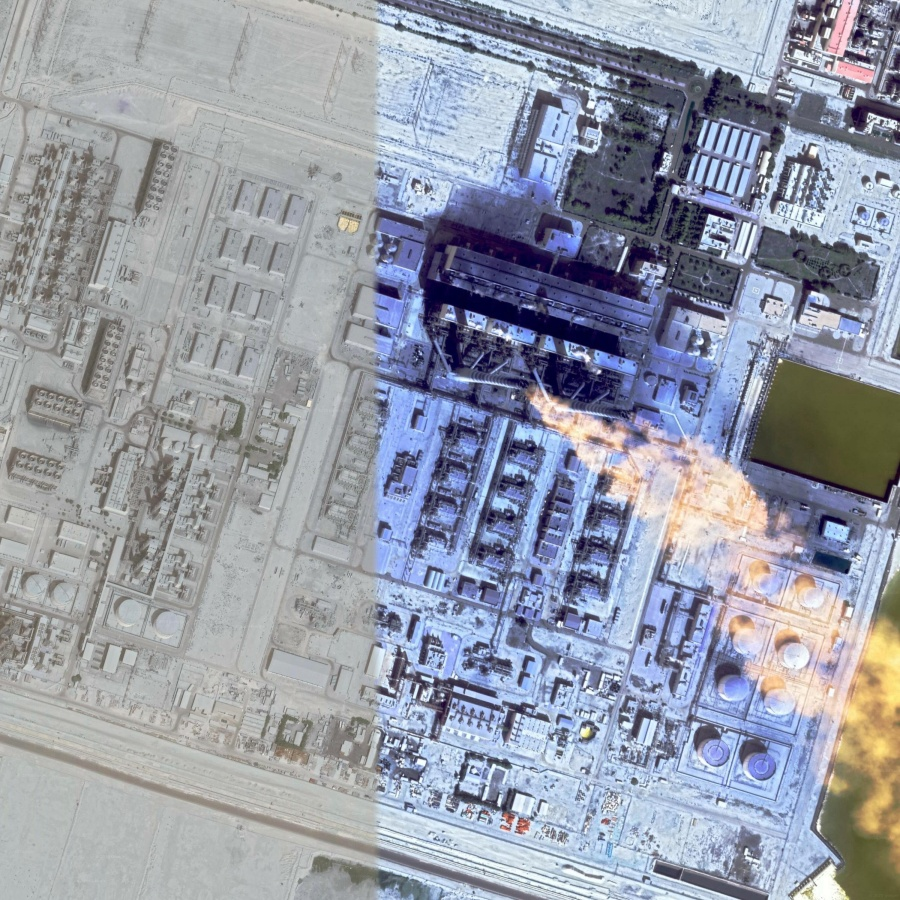PowerPlant: (316, 192, 864, 824)
